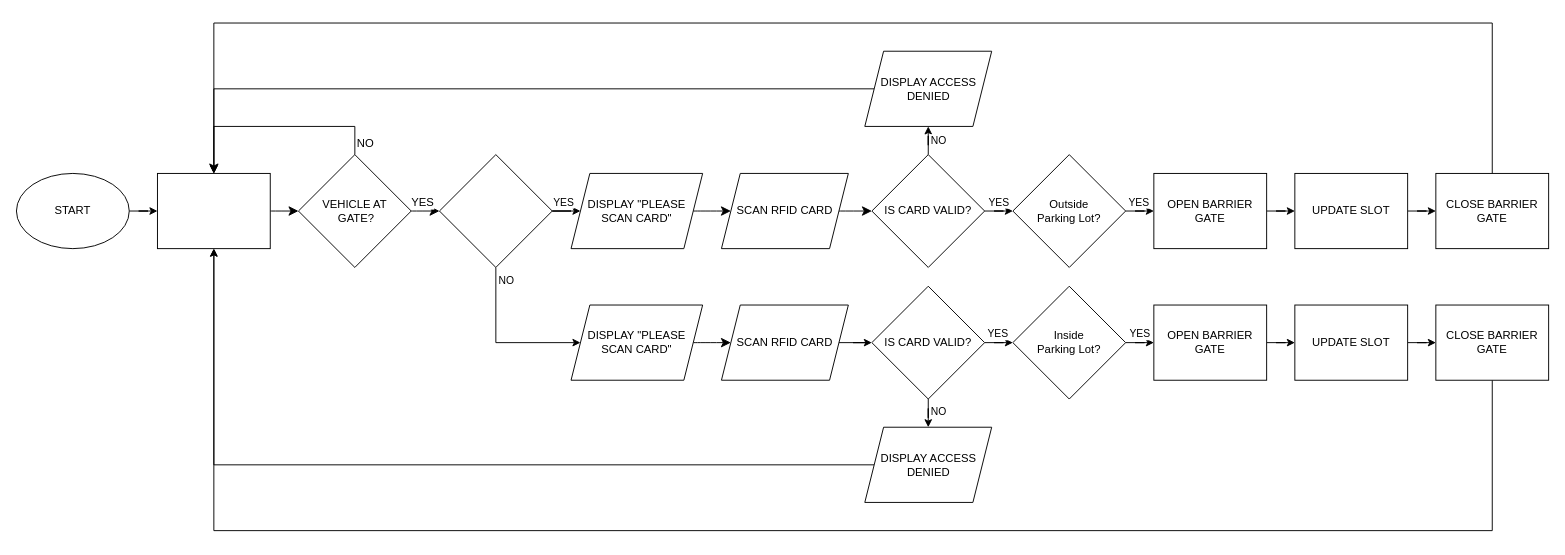
This 1565x555 diagram has some shape labels left out. Each missing label, with the box of its shape:
SCAN FOR VEHICLES: (157, 172, 270, 249)
VEHICLE IN FRONT OF GATE?: (439, 154, 552, 267)
